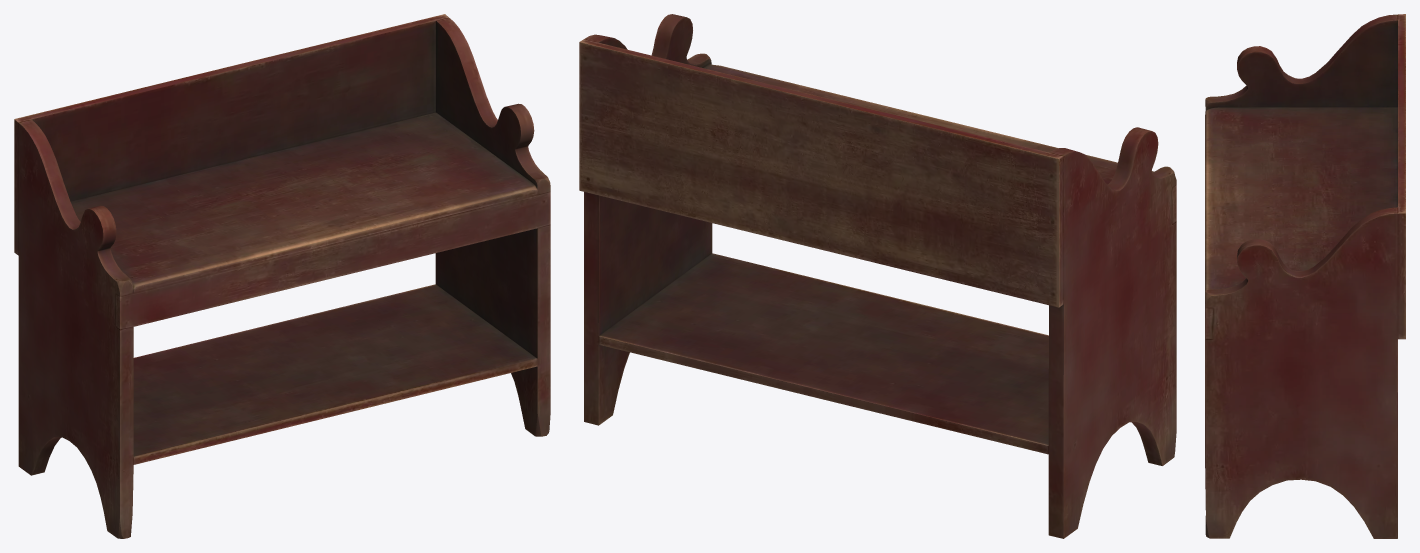
File: painted_wooden_bench.glb
3 views of the same model, side by side, from view 1: azimuth 30°, elevation 25°; view 2: azimuth 150°, elevation 25°; view 3: azimuth 270°, elevation 25° (orthographic). The views are drawn at different scales.
Visible parts, largest first — view 1: painted_wooden_bench; view 2: painted_wooden_bench; view 3: painted_wooden_bench.
Boxes of the visible parts, x1,y1,x2,y2 form: painted_wooden_bench: (14,14,550,538); painted_wooden_bench: (579,14,1176,538); painted_wooden_bench: (1205,14,1405,538).
Size of the model in its own units: 1.16 by 0.8893 by 0.4965.
Materials: 1 (1 with a texture image).
